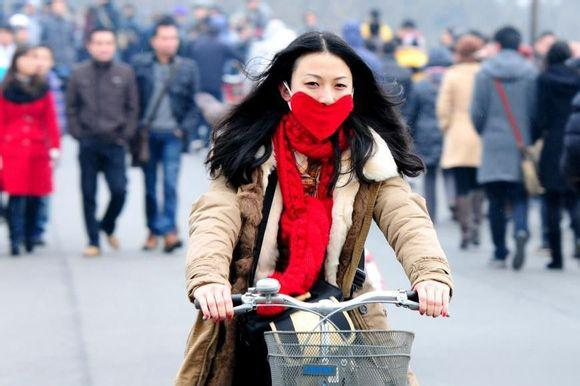NONE: (92, 38, 116, 61), (159, 34, 180, 54)
WRONG: (294, 70, 355, 137)
